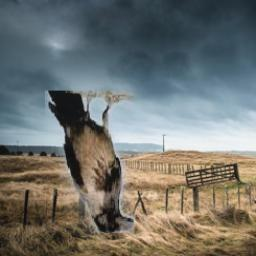Crow: (46, 92, 135, 234)
